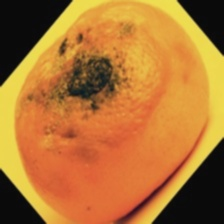orange: (50, 44, 203, 220)
